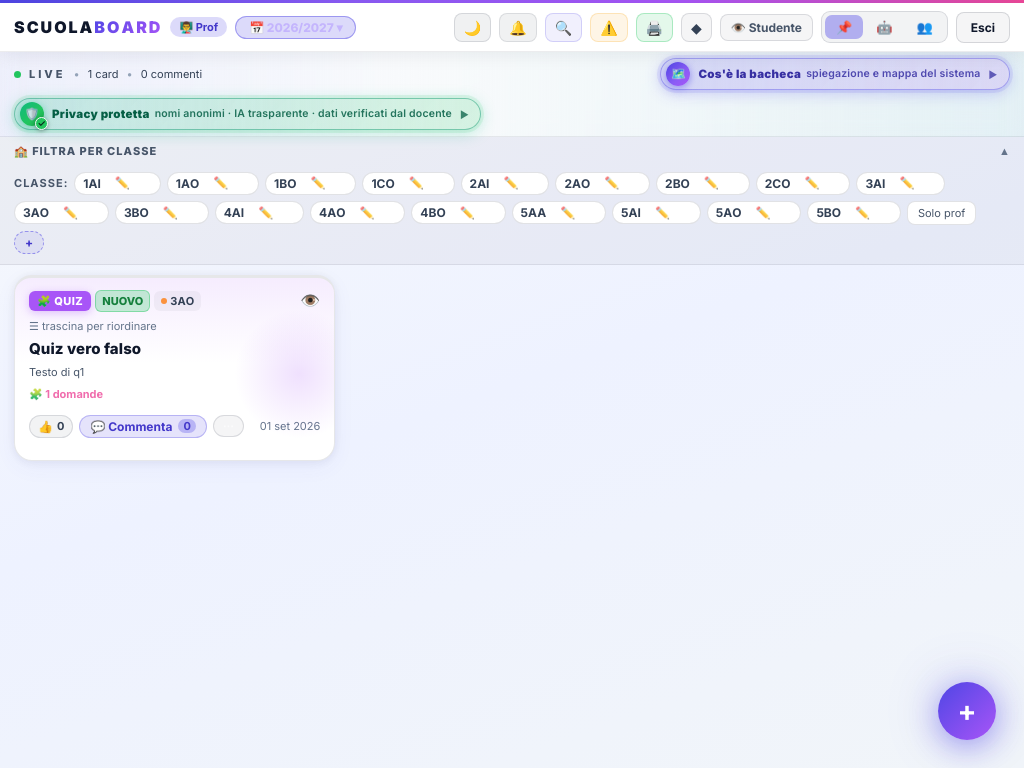
Test: Valutazione quiz lato prof › vero/falso: mostra il TESTO della risposta ("Falso"), non l’indice
Click the text "Quiz vero falso" at (85, 348), box [29, 338, 141, 358]
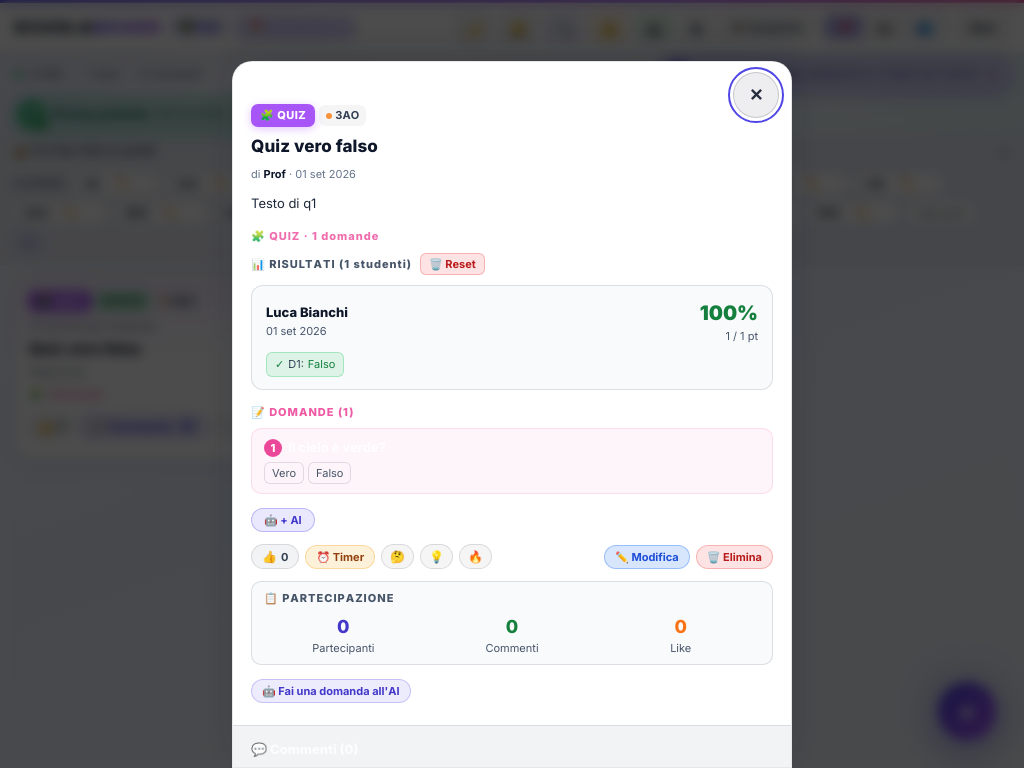
expect the text "📊 RISULTATI (1 studenti)" is shown: met, box [251, 256, 412, 272]
expect the element with test id "segno-risposta" reads "✓ D1: Falso": met, box [266, 352, 344, 377]
